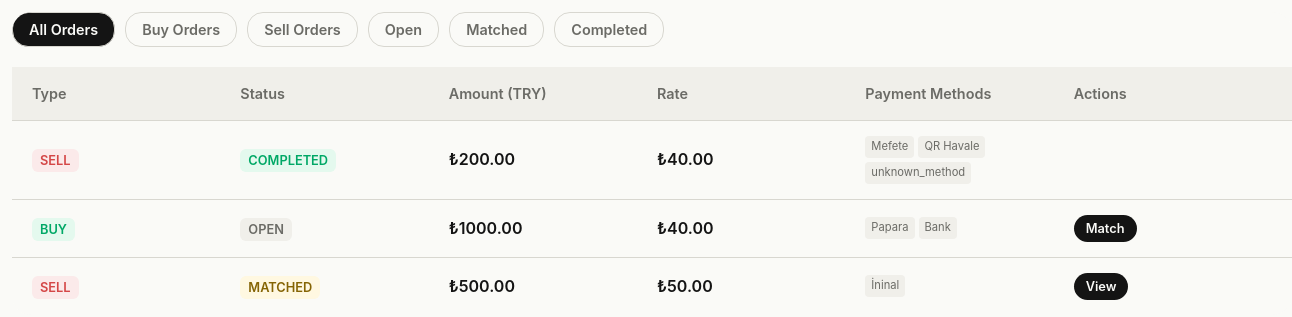
Test: OrderBook › filters by type and status
The width and height of the screenshot is (1292, 317).
Click the button "Buy Orders": click(181, 30) [125, 12, 237, 47]
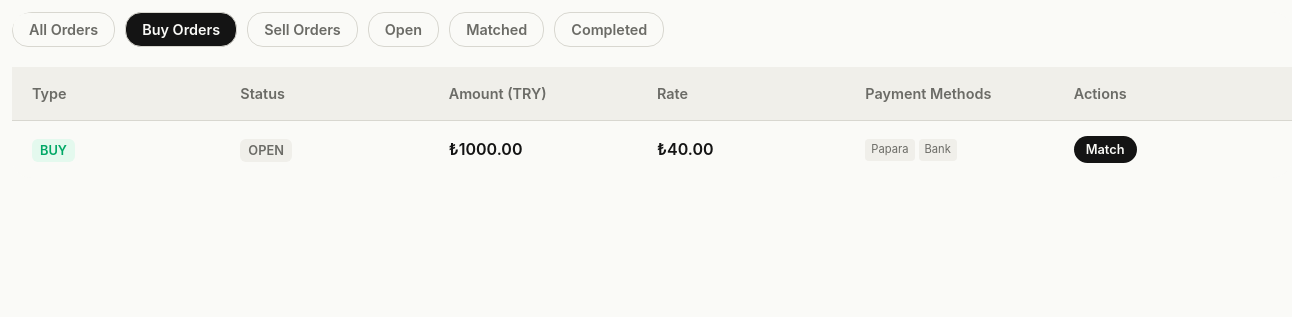
Check: the text "₺1000.00" is shown, box [449, 139, 522, 159]
Check: the text "₺500.00" is gone
Click the button "Completed": click(609, 30) [554, 12, 664, 47]
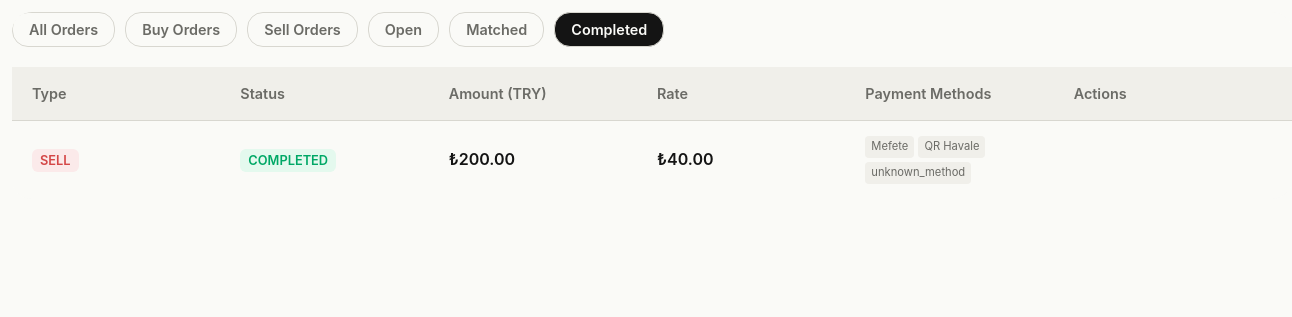
Check: the text "₺200.00" is shown, box [449, 149, 515, 169]
Check: the text "₺1000.00" is gone
Click the button "All Orders": click(64, 30) [12, 12, 115, 47]
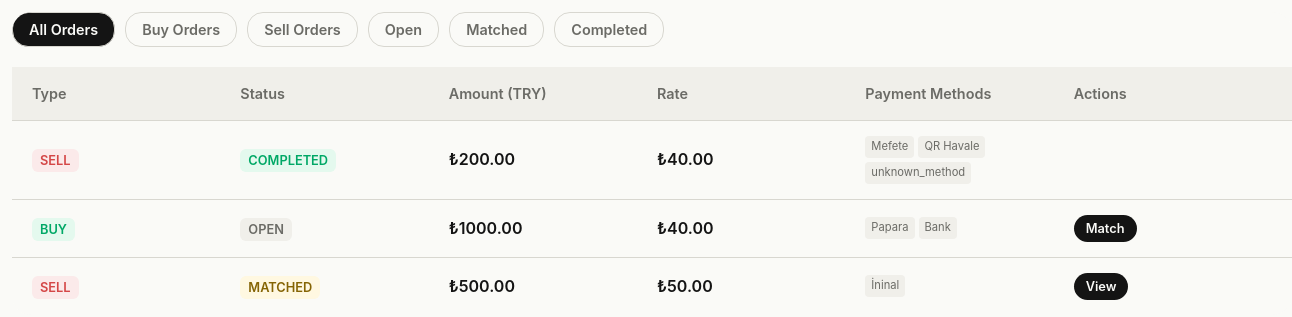
Check: the text "₺1000.00" is shown, box [449, 218, 522, 238]
